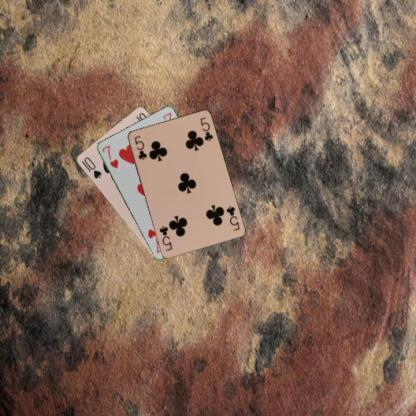10s: (78, 154, 103, 180)
5c: (132, 132, 148, 162), (224, 203, 240, 232)
7h: (99, 143, 120, 170)
